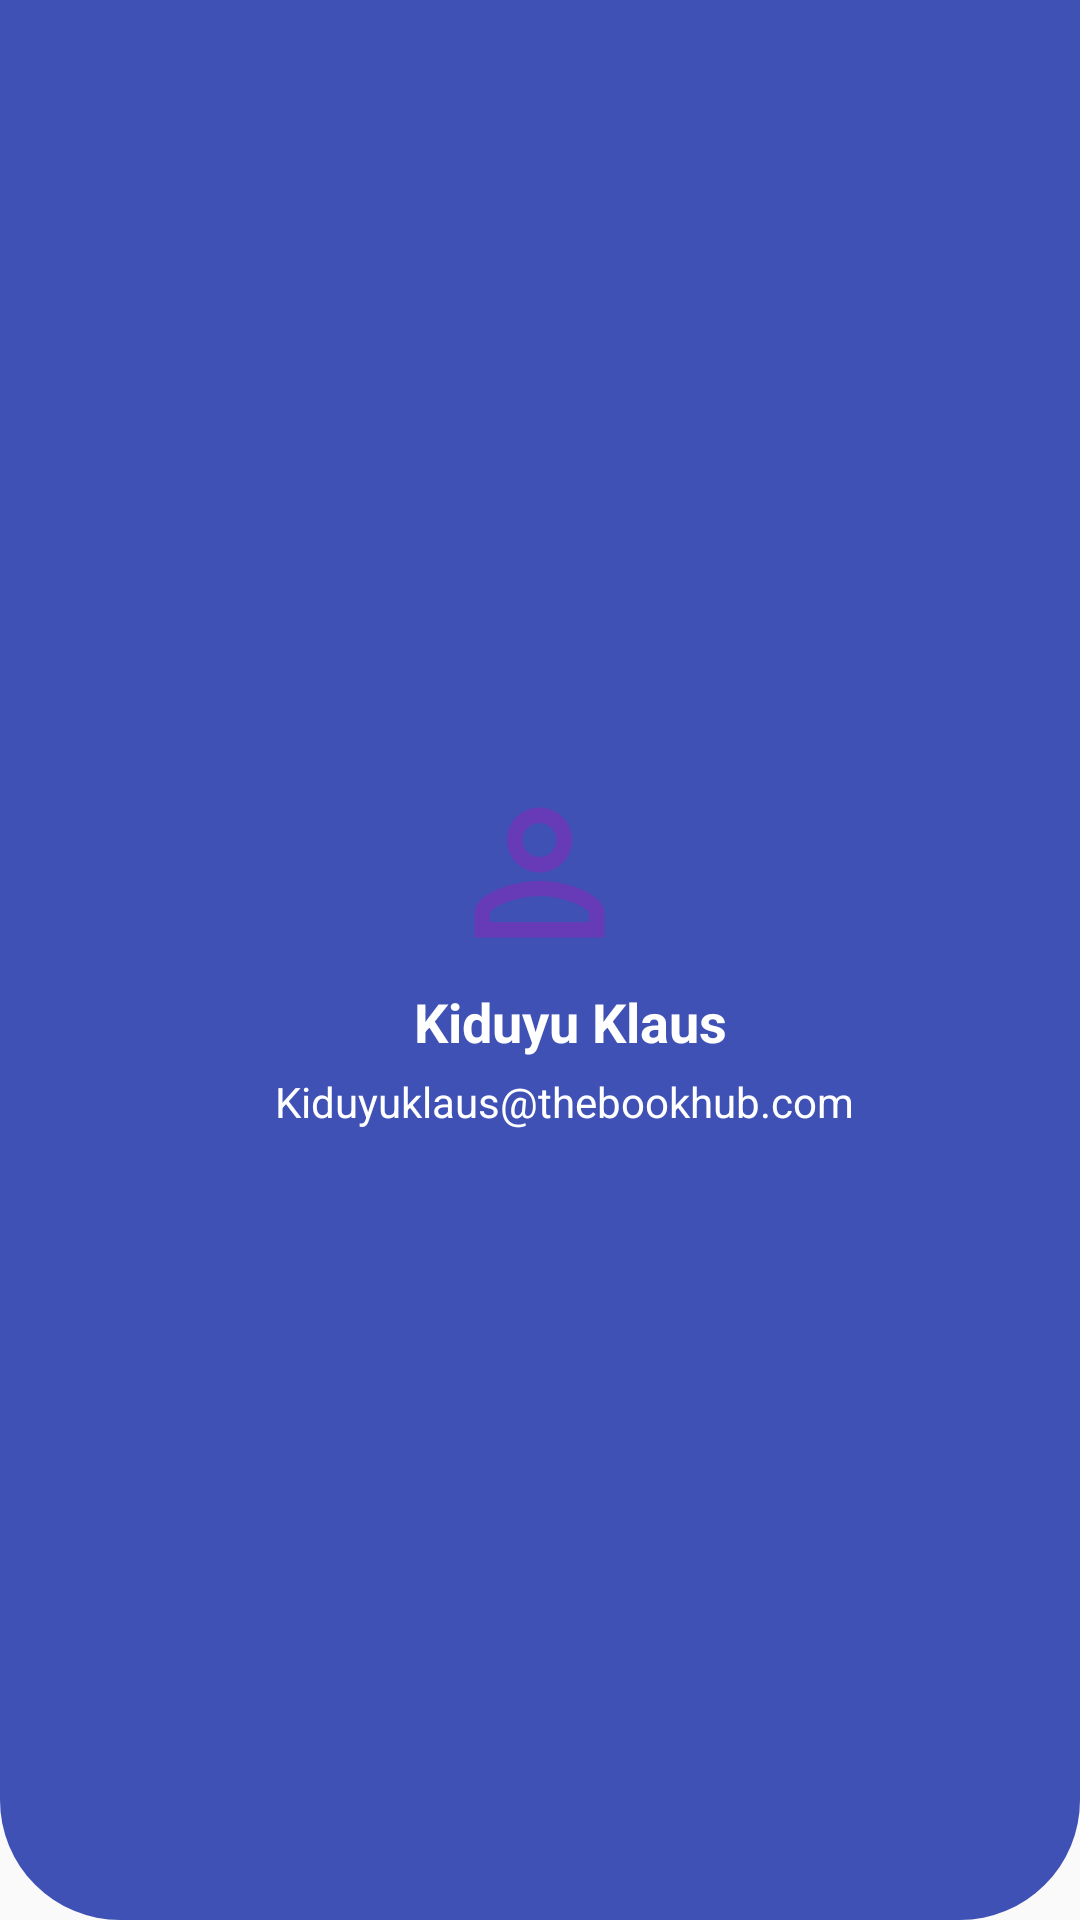

Icon bounding boxes for this 1080px×1920px phone screenshot, format (x1, y1, x2, y2):
person: (475, 808, 604, 937)
